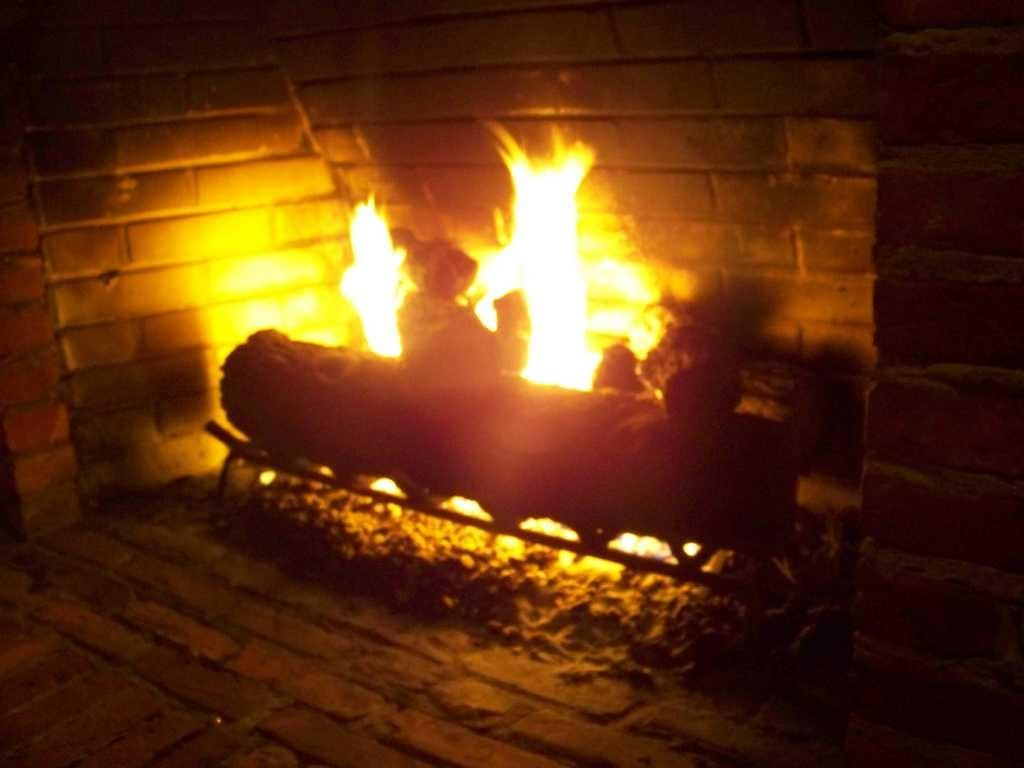fire: (504, 158, 606, 380), (356, 192, 414, 352)
